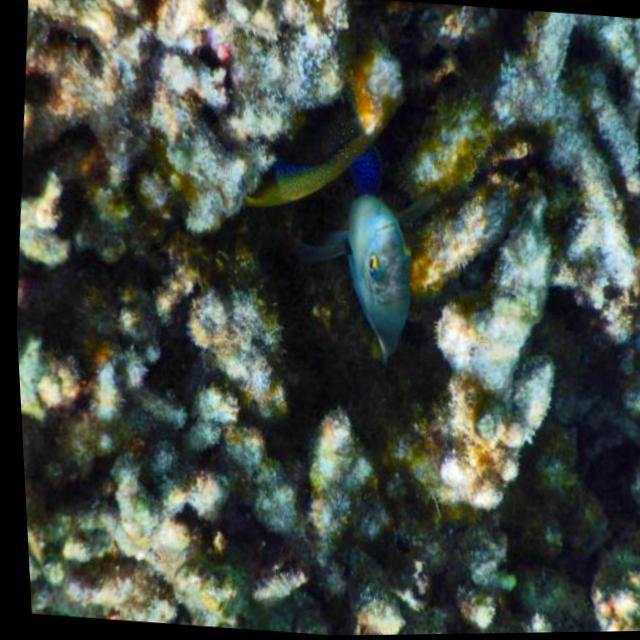Dead Coral: (9, 224, 564, 617), (10, 0, 347, 276), (464, 7, 640, 316), (19, 470, 230, 630)
